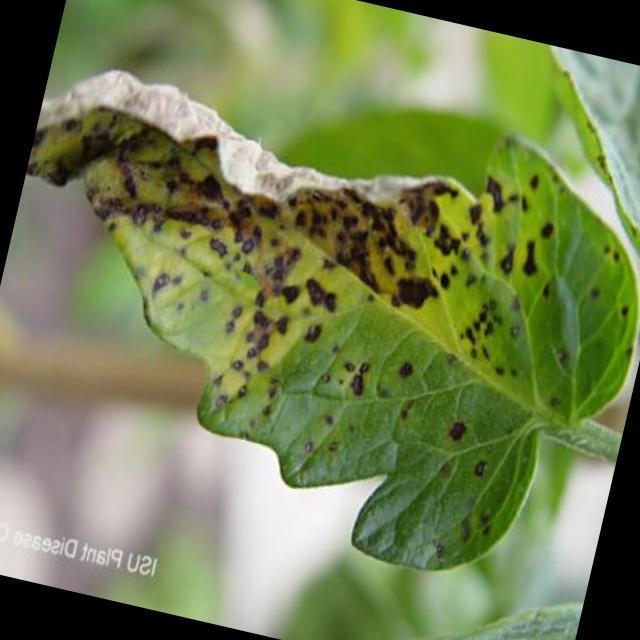Septoria: (0, 71, 591, 566)
